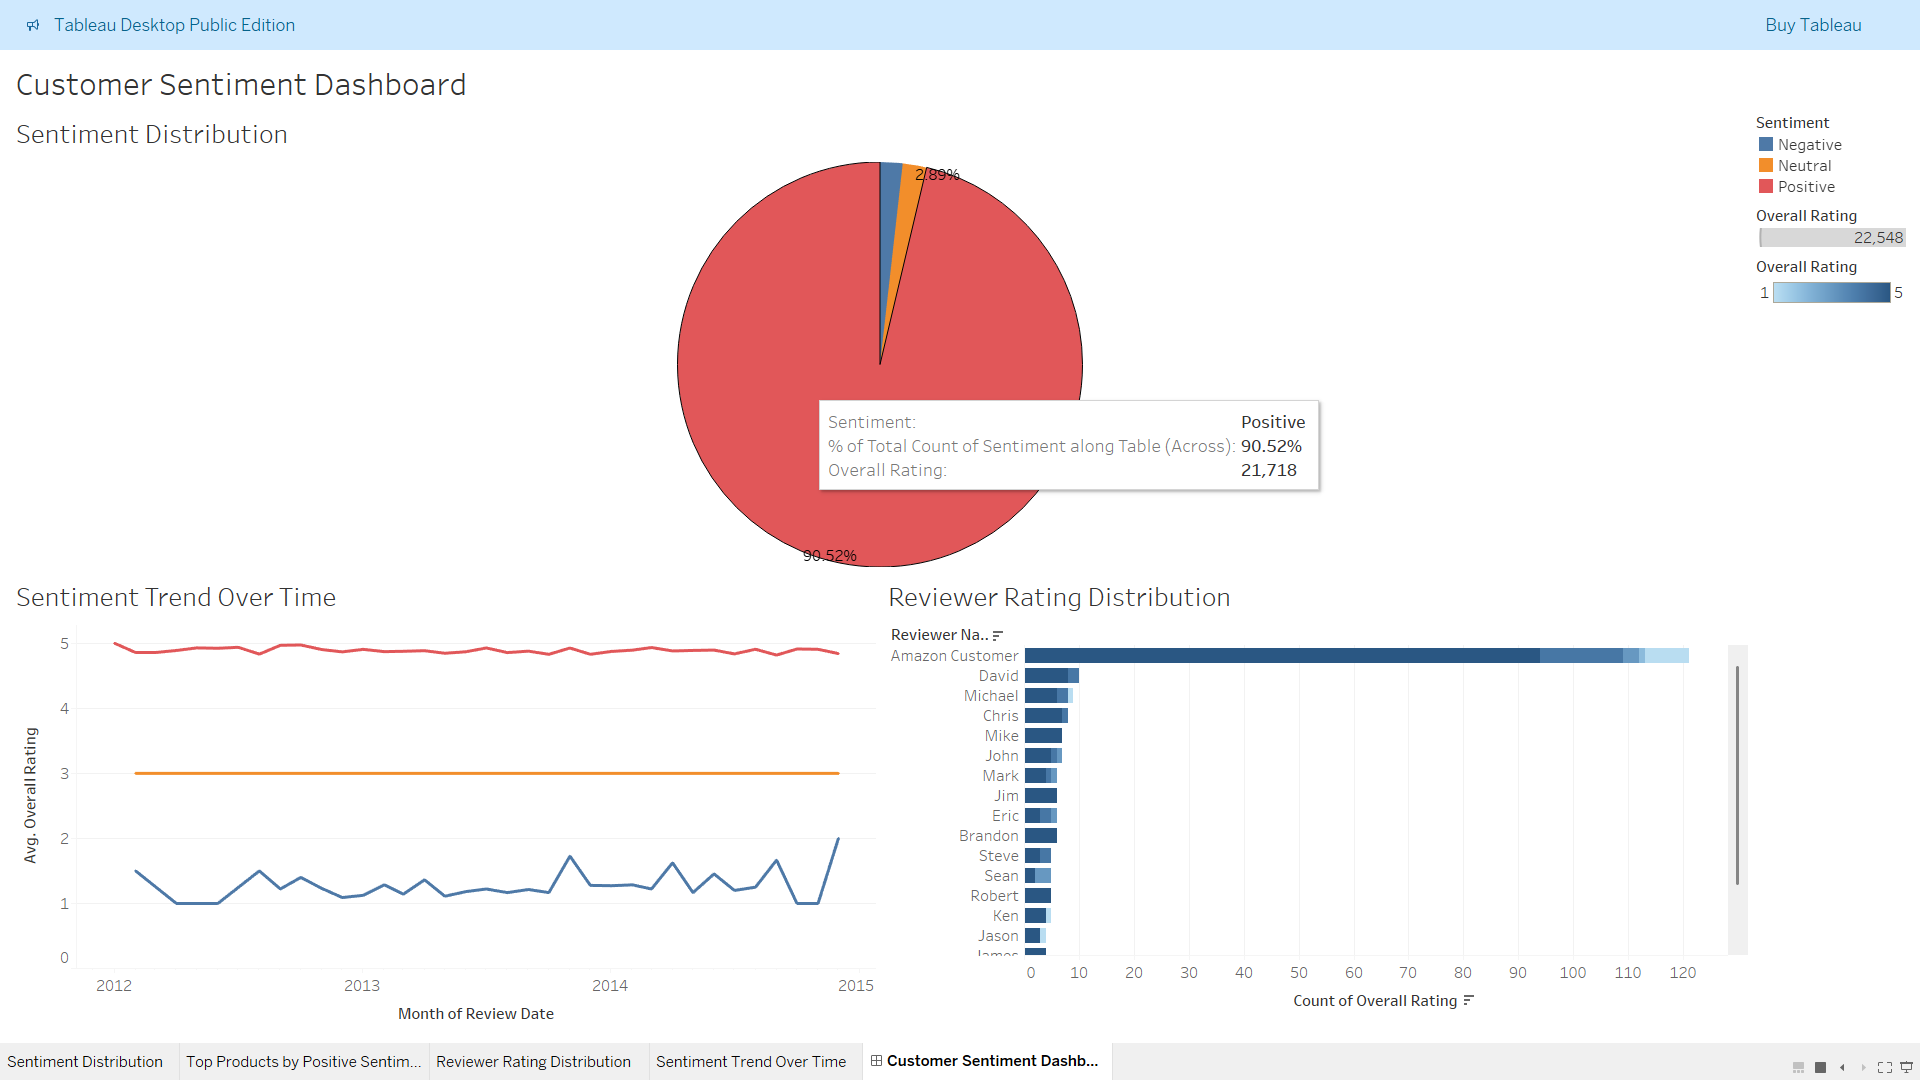

Layout of this report page (visuals, bound fields, positions):
{"tool":"tableau","page":{"name":"Customer Sentiment Dashboard","canvas":[1000,1000],"units":"permille","ordinal":0},"visuals":[{"type":"title","box":[4.9,10,990.3,62.4]},{"type":"worksheet","title":"Sentiment Distribution","mark":"Pie","box":[4.9,72.4,893.4,458.7]},{"type":"legend","title":"Sentiment Distribution","param":"[federated.17ezmlq1kbrf0o0zshptq1byn8r6].[none:sentiment_class:nk]","box":[898.2,72.4,96.9,116.1]},{"type":"legend","title":"Sentiment Distribution","param":"[federated.17ezmlq1kbrf0o0zshptq1byn8r6].[sum:overall:qk]","box":[898.2,188.5,96.9,63.7]},{"type":"legend","title":"Reviewer Rating Distribution","param":"[federated.17ezmlq1kbrf0o0zshptq1byn8r6].[none:overall:qk]","box":[898.2,252.2,96.9,91.1]},{"type":"worksheet","title":"Sentiment Trend Over Time","mark":"Automatic","rows":["overall"],"cols":["reviewTime"],"box":[4.9,531.1,446.7,458.9]},{"type":"worksheet","title":"Reviewer Rating Distribution","mark":"Automatic","rows":["reviewerName"],"cols":["overall"],"box":[451.5,531.1,446.7,458.9]}]}

Visuals, with their boxes on the dashboard's canvas, which has no fixed pixel size, in thousandths of its width and height (x1, y1, x2, y2). These are canvas units, not pixel positions in the 1920x1080 screenshot, which may show the page scaled, cropped or inside an application window:
title: 5:10:995:72
"Sentiment Distribution" worksheet (Pie marks): 5:72:898:531
"Sentiment Distribution" legend: 898:72:995:188
"Sentiment Distribution" legend: 898:188:995:252
"Reviewer Rating Distribution" legend: 898:252:995:343
"Sentiment Trend Over Time" worksheet: 5:531:452:990
"Reviewer Rating Distribution" worksheet: 452:531:898:990
